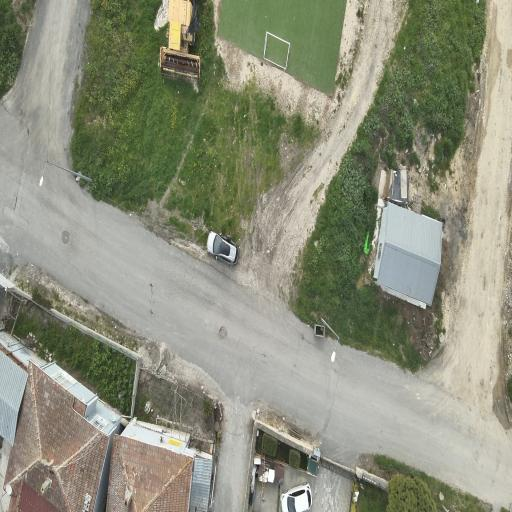car: (207, 231, 239, 264), (281, 482, 312, 511)
harvester: (160, 0, 200, 82)
